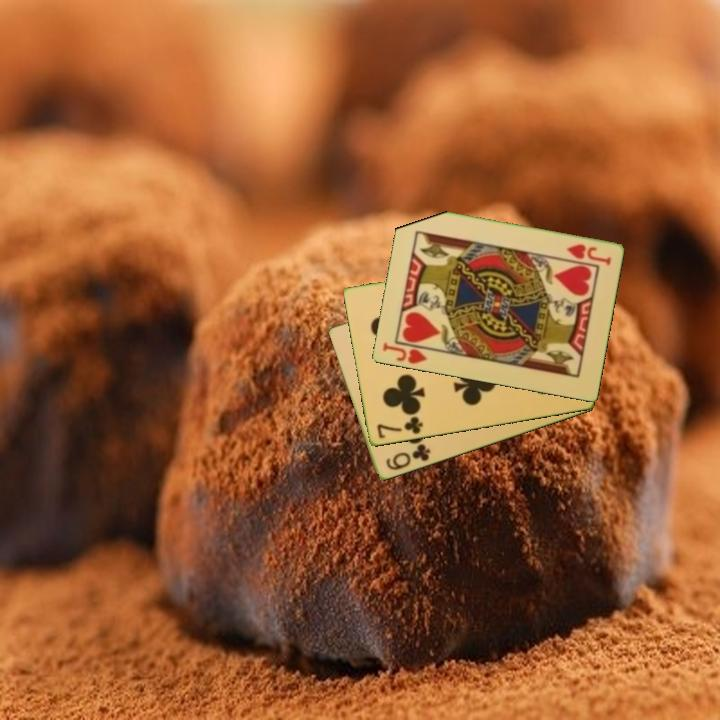6c: (382, 441, 433, 474)
7c: (373, 413, 426, 442)
Jh: (379, 339, 430, 367), (563, 241, 614, 267)
